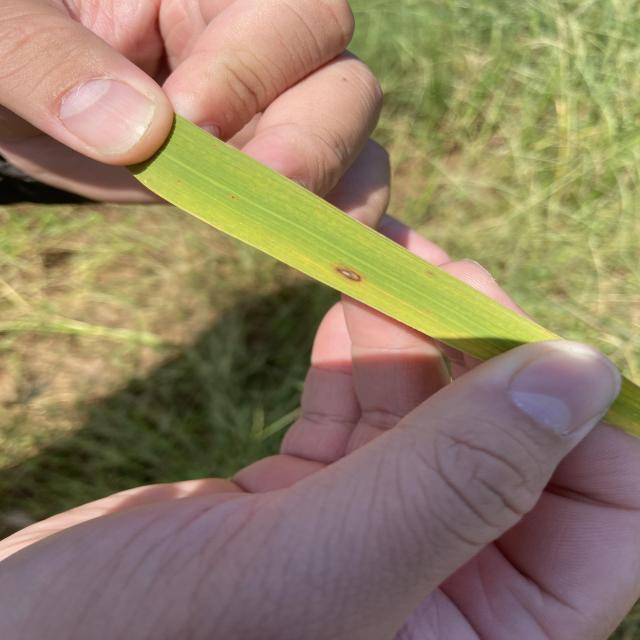Dom nau: (335, 266, 362, 282)
